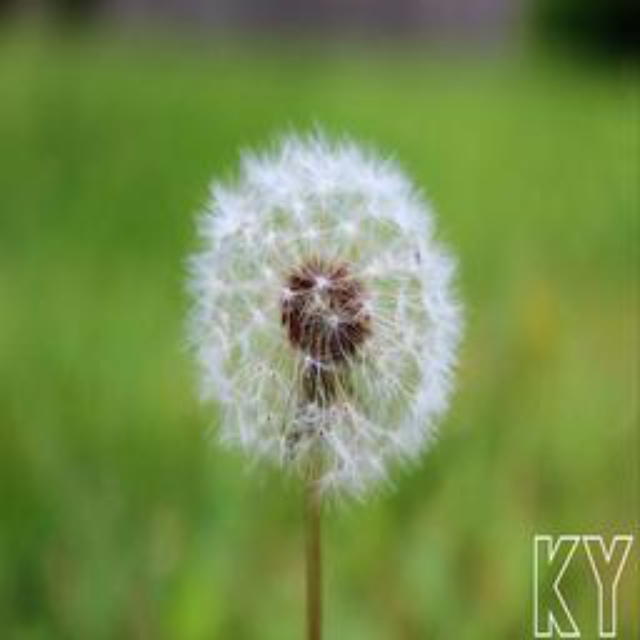dandelion: (170, 118, 470, 519)
